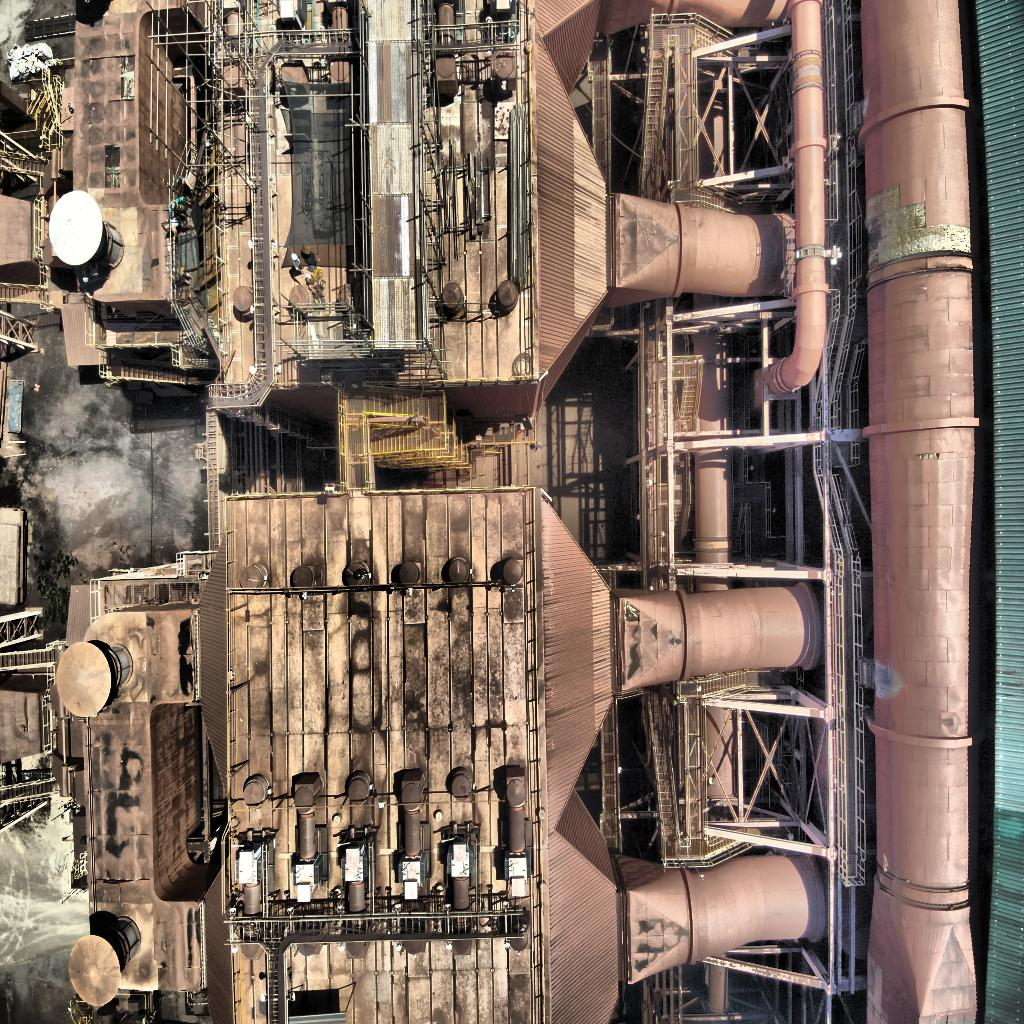Failures: (860, 190, 978, 268), (89, 869, 155, 914), (103, 139, 125, 197), (116, 52, 138, 106), (622, 595, 641, 630), (914, 451, 943, 466)
